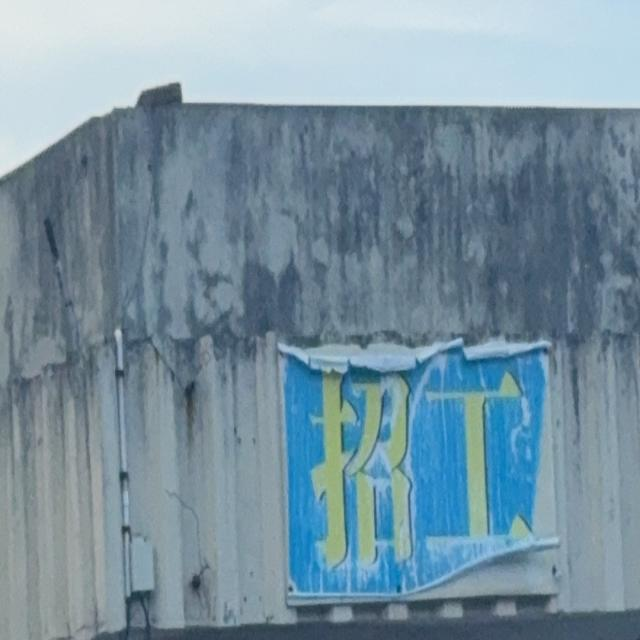crack: (158, 488, 214, 622)
mildew: (2, 107, 637, 503)
